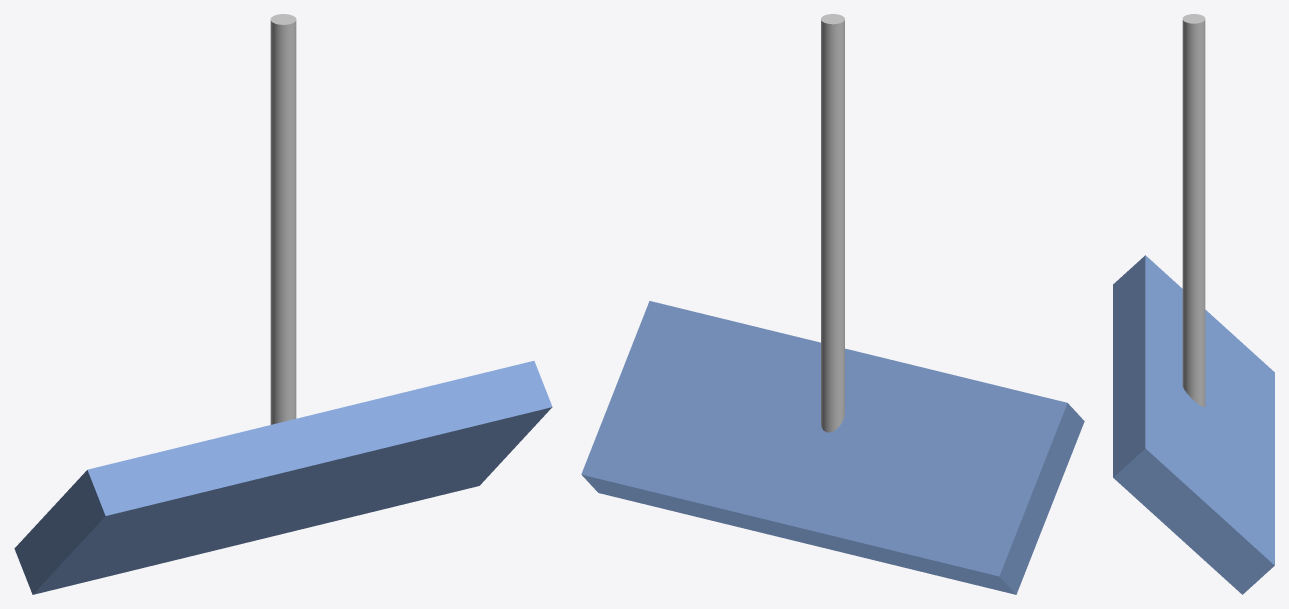
File: MarcoFDOF.gltf
3 views of the same model, side by side, from view 1: azimuth 30°, elevation 25°; view 2: azimuth 150°, elevation 25°; view 3: azimuth 270°, elevation 25° (orthographic). The views are drawn at different scales.
Visible parts, largest first — view 1: Part 3, Part 2; view 2: Part 3, Part 2; view 3: Part 3, Part 2.
Boxes of the visible parts, x1,y1,x2,y2 form: Part 3: (14, 361, 552, 594); Part 2: (270, 14, 296, 424); Part 3: (581, 301, 1084, 594); Part 2: (821, 14, 844, 432); Part 3: (1113, 255, 1274, 594); Part 2: (1182, 14, 1205, 407).
Bounding box in the file's own units: 0.05 × 0.0578 × 0.0177.
